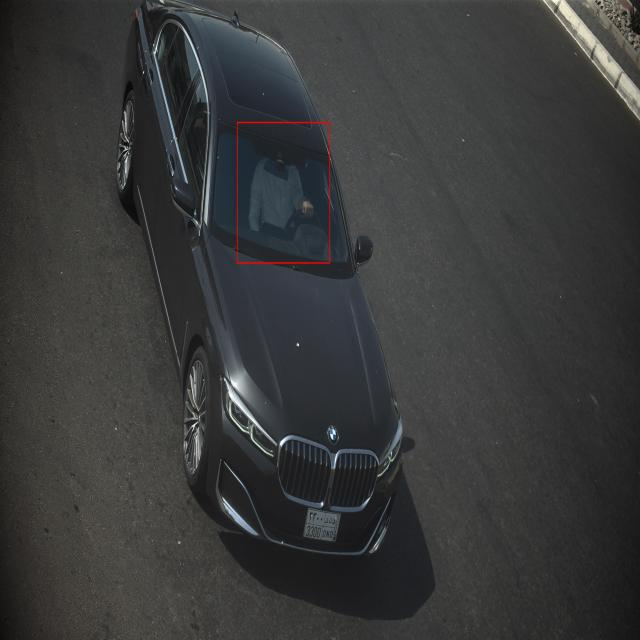windshield: (206, 119, 359, 279)
